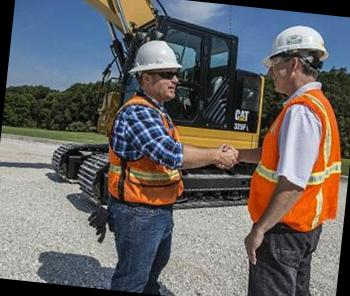Vest: (240, 82, 350, 234), (104, 92, 198, 210)
